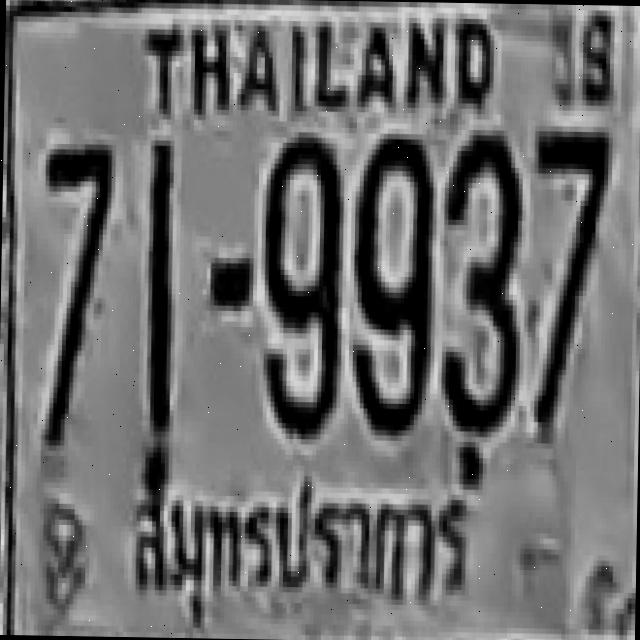1: (142, 140, 174, 404)
3: (436, 128, 519, 432)
7: (36, 137, 112, 446), (530, 128, 608, 420), (36, 140, 112, 417), (40, 140, 114, 380), (41, 140, 114, 322)
9: (258, 131, 340, 434), (347, 133, 430, 430)
SamutPrakan: (119, 452, 482, 640)
